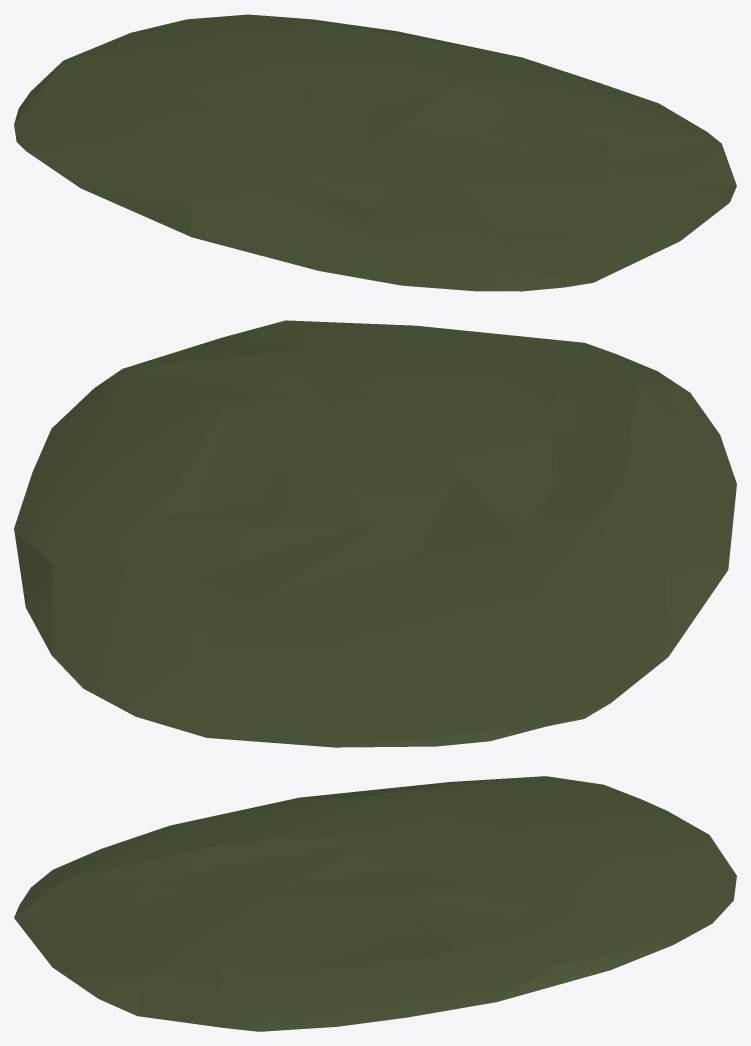
Rendered from SM_Env_Grass_Mound_Large_01_Opt.fbx.
3 renders of one model, top to bottom at view 1: azimuth 30°, elevation 25°; view 2: azimuth 150°, elevation 25°; view 3: azimuth 270°, elevation 25°, orthographic. The views are drawn at different scales.
Visible parts, largest first — view 1: SM_Env_Grass_Mound_Large_01__3_; view 2: SM_Env_Grass_Mound_Large_01__3_; view 3: SM_Env_Grass_Mound_Large_01__3_.
Boxes of the visible parts, <box> form: SM_Env_Grass_Mound_Large_01__3_: <box>14,14,736,291</box>; SM_Env_Grass_Mound_Large_01__3_: <box>14,320,736,747</box>; SM_Env_Grass_Mound_Large_01__3_: <box>14,776,736,1031</box>.
Size of the model in its own units: 7933 by 176 by 9590.
